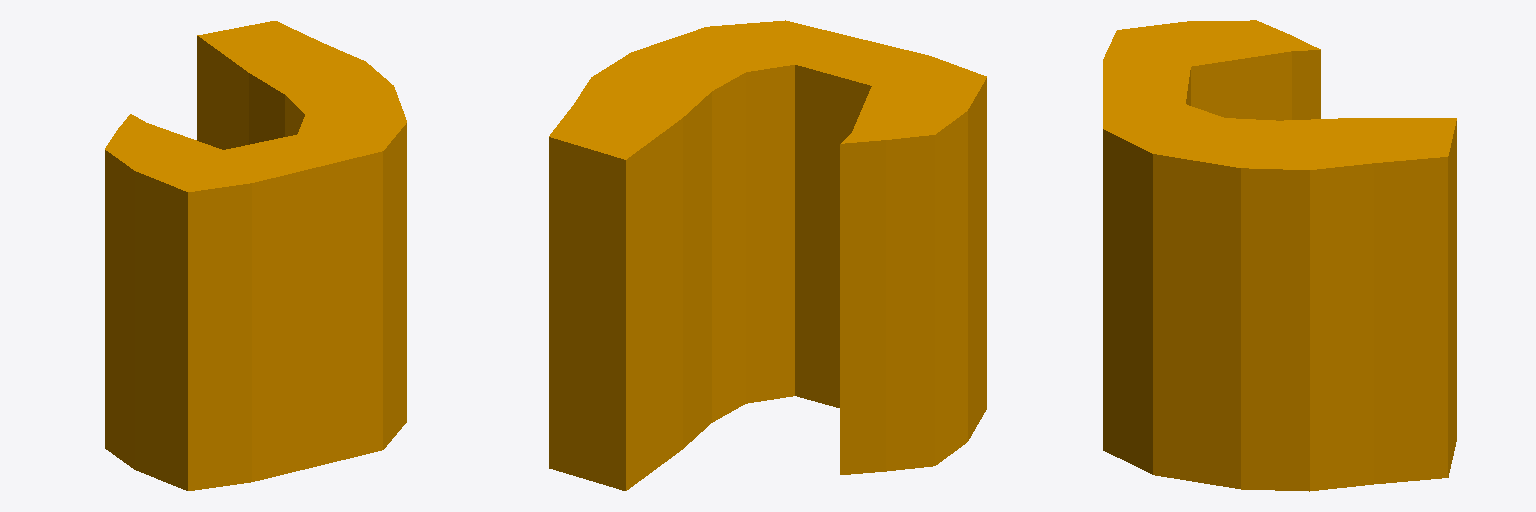
robot.urdf — object:
<?xml version="1.0"?>
<robot name="object">
  <link name="object">
    <visual>
      <origin xyz="0 0 0"/>
      <geometry>
        <mesh filename="meshes/polygon/poly_23_s.obj" scale=".03 .03 .03"/>
      </geometry>
    </visual>
    <collision>
  <origin xyz="0 0 0"/>
  <geometry>
    <mesh filename="meshes/polygon/poly_23_s_0decompose.obj" scale=".03 .03 .03"/>
<!--          <mesh filename="meshes/custom/obj0_ball.obj" scale=".05 .05 .05"/>-->
  </geometry>
</collision><collision>
  <origin xyz="0 0 0"/>
  <geometry>
    <mesh filename="meshes/polygon/poly_23_s_1decompose.obj" scale=".03 .03 .03"/>
<!--          <mesh filename="meshes/custom/obj0_ball.obj" scale=".05 .05 .05"/>-->
  </geometry>
</collision><collision>
  <origin xyz="0 0 0"/>
  <geometry>
    <mesh filename="meshes/polygon/poly_23_s_2decompose.obj" scale=".03 .03 .03"/>
<!--          <mesh filename="meshes/custom/obj0_ball.obj" scale=".05 .05 .05"/>-->
  </geometry>
</collision>

<!--    <collision>-->
<!--      <origin xyz="0 0 0"/>-->
<!--      <geometry>-->
<!--        <mesh filename="meshes/polygon/poly_23_s.obj" scale=".03 .03 .03"/>-->
<!--&lt;!&ndash;          <mesh filename="meshes/custom/obj0_ball.obj" scale=".05 .05 .05"/>&ndash;&gt;-->
<!--      </geometry>-->
<!--    </collision>-->
    <inertial>
      <density value="1000.0"/>
    </inertial>
  </link>
</robot>

--- What the picture shows (computed from the rendered views, not written in the file) ---
The picture shows the robot from 3 angles, left to right: view 1: azimuth 30°, elevation 25°; view 2: azimuth 150°, elevation 25°; view 3: azimuth 270°, elevation 25°; orthographic projection.
Robot: object — 1 links, 0 joints (none); root link object; default pose: every joint at zero.
Visible links, largest first — view 1: object; view 2: object; view 3: object.
Boxes of the visible links, x1,y1,x2,y2 form: object: [105, 21, 406, 490]; object: [549, 20, 986, 490]; object: [1103, 20, 1456, 491].
Size in the robot's own frame: 0.06 by 0.06 by 0.06 metres.
1 mesh visuals loaded from 1 distinct referenced files (1 OBJ).
